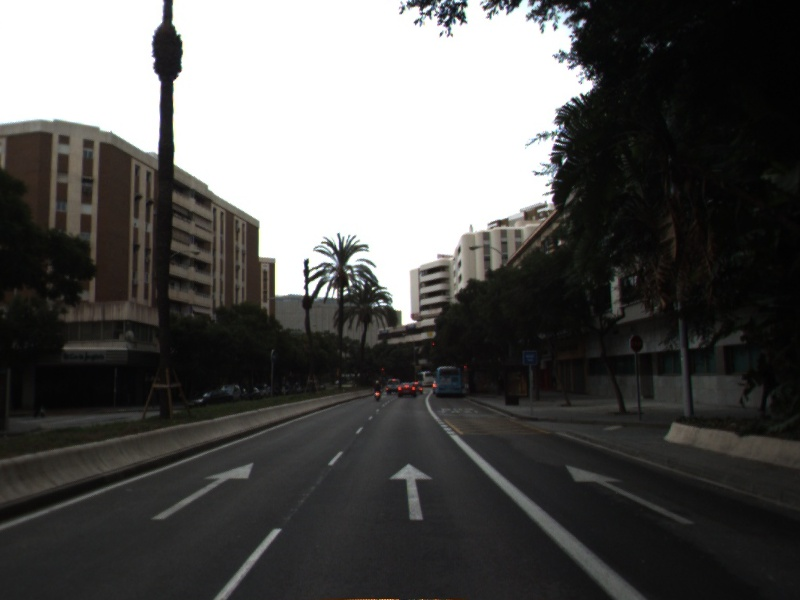STRAIGHT: (563, 462, 697, 526), (150, 461, 255, 521), (387, 461, 435, 522)
